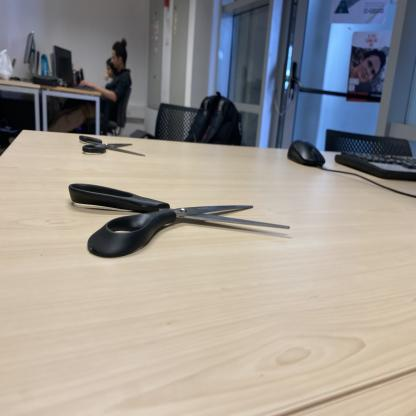scissors: (67, 180, 292, 259), (78, 135, 146, 158)
